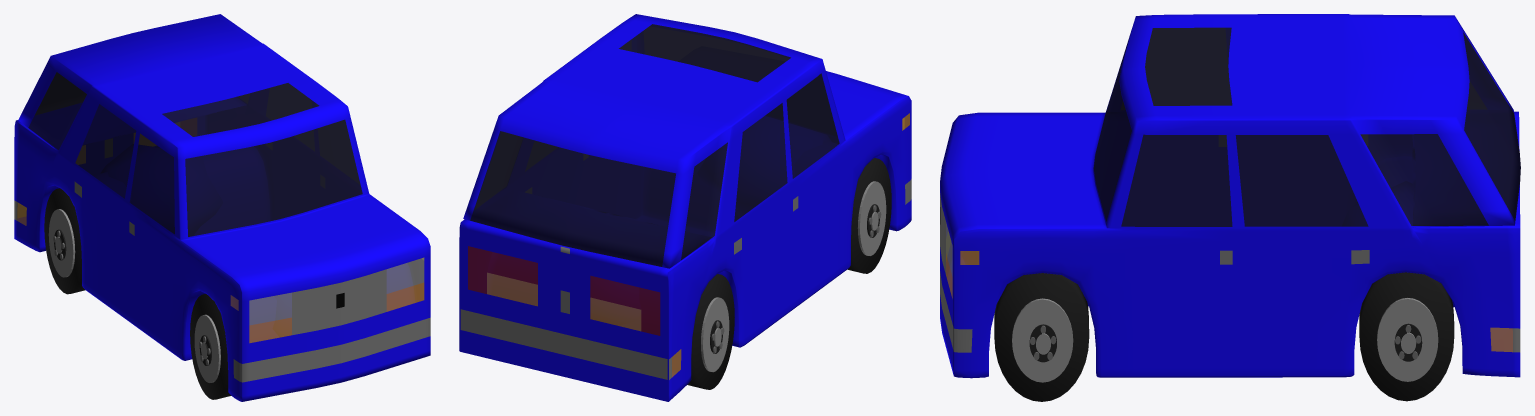
File: car3wagonBlue.fbx
3 views of the same model, side by side, from view 1: azimuth 30°, elevation 25°; view 2: azimuth 150°, elevation 25°; view 3: azimuth 270°, elevation 25° (orthographic). The views are drawn at different scales.
Visible parts, largest first — view 1: Car2, LugNut.001, LugNut.002; view 2: Car2, LugNut.002, LugNut.001; view 3: Car2, LugNut.004, LugNut.003.
Boxes of the visible parts, x1=… form: Car2: x1=14, y1=14, x2=430, y2=401; LugNut.001: x1=190, y1=294, x2=231, y2=399; LugNut.002: x1=44, y1=188, x2=85, y2=294; Car2: x1=459, y1=14, x2=911, y2=401; LugNut.002: x1=687, y1=274, x2=734, y2=389; LugNut.001: x1=847, y1=158, x2=891, y2=273; Car2: x1=940, y1=14, x2=1520, y2=378; LugNut.004: x1=994, y1=273, x2=1089, y2=401; LugNut.003: x1=1359, y1=272, x2=1454, y2=401.
Size of the model in its own units: 187 by 204 by 385.
